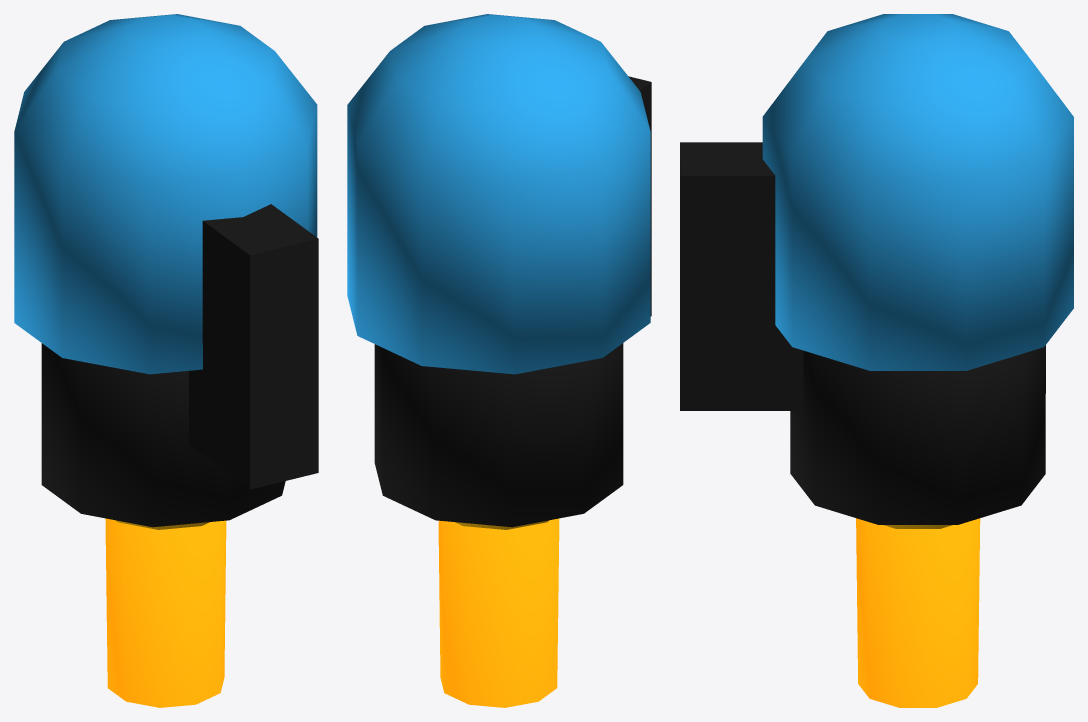
Rendered from directional.glb.
3 views of the same model, side by side, from view 1: azimuth 30°, elevation 25°; view 2: azimuth 150°, elevation 25°; view 3: azimuth 270°, elevation 25° (orthographic).
Visible parts, largest first — view 1: Cylinder.024, boost-part.003; view 2: Cylinder.024, boost-part.003; view 3: Cylinder.024, boost-part.003.
Boxes of the visible parts, left/top/right/bottom form: Cylinder.024: left=14, top=14, right=318, bottom=529; boost-part.003: left=105, top=518, right=226, bottom=707; Cylinder.024: left=347, top=14, right=651, bottom=529; boost-part.003: left=438, top=518, right=559, bottom=707; Cylinder.024: left=680, top=14, right=1073, bottom=528; boost-part.003: left=856, top=518, right=980, bottom=707.
Bounding box in the file's own units: 0.1072 × 0.2611 × 0.1426.
